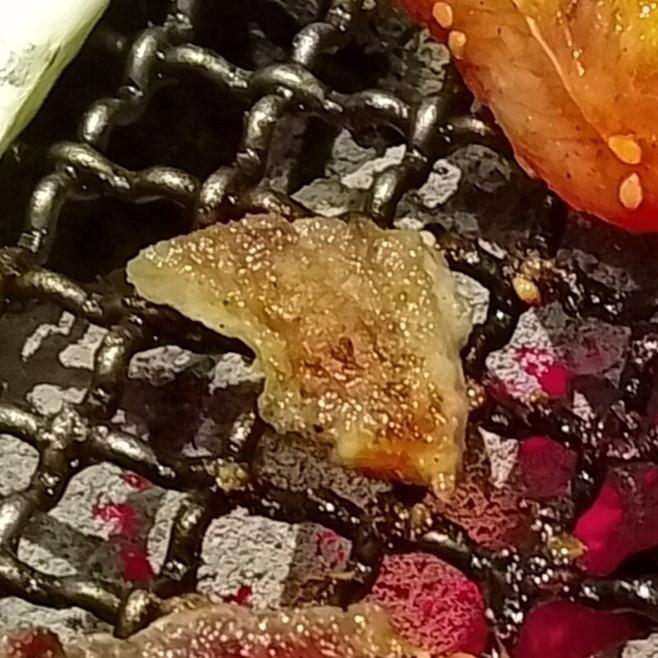Well-Cooked: (123, 210, 510, 509)
